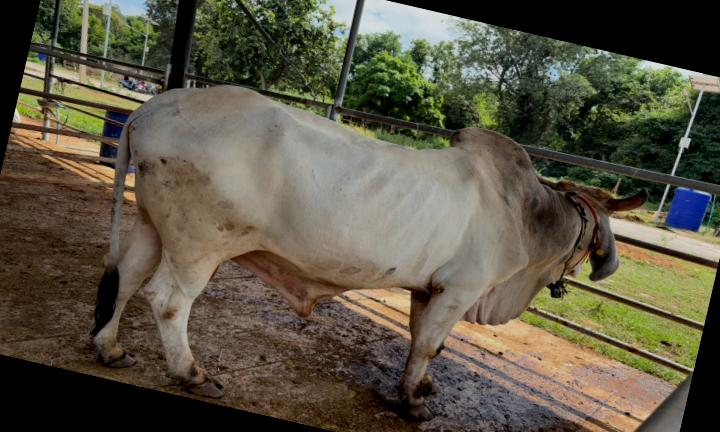Brahman: (89, 86, 647, 419)
